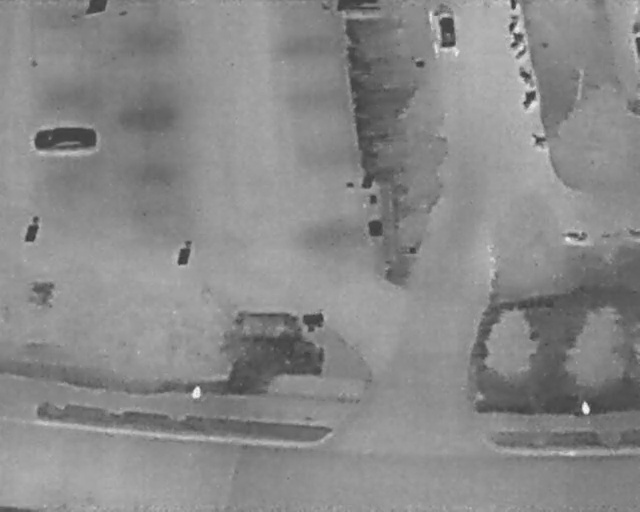Car: (428, 2, 459, 54), (32, 127, 98, 151)
